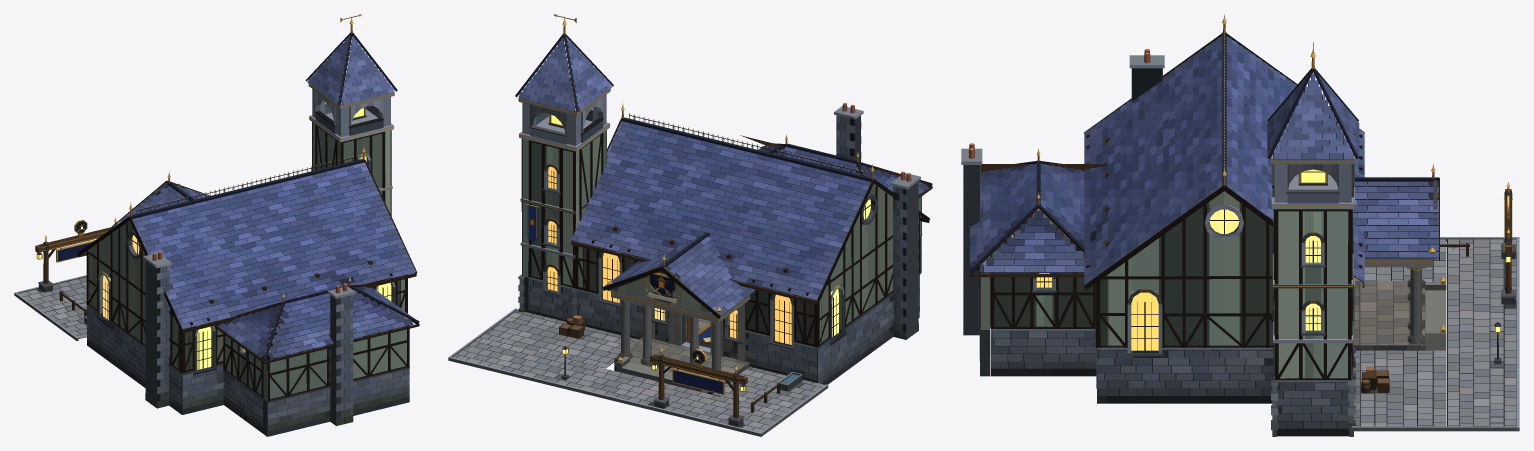
Rendered from guild_source.glb.
The picture shows the model from 3 angles, left to right: view 1: azimuth 30°, elevation 25°; view 2: azimuth 150°, elevation 25°; view 3: azimuth 270°, elevation 25°; orthographic projection. The views are drawn at different scales.
Visible parts, largest first — view 1: GuildRoof, GuildShell, GuildYard, GuildTrim; view 2: GuildShell, GuildRoof, GuildYard, GuildTrim; view 3: GuildShell, GuildRoof, GuildYard, GuildTrim, GuildGlow.
Boxes of the visible parts, x1=… form: GuildRoof: x1=77, y1=32, x2=419, y2=363; GuildShell: x1=86, y1=72, x2=409, y2=436; GuildYard: x1=14, y1=217, x2=116, y2=341; GuildTrim: x1=116, y1=14, x2=394, y2=224; GuildShell: x1=518, y1=76, x2=922, y2=396; GuildRoof: x1=515, y1=34, x2=932, y2=318; GuildYard: x1=448, y1=308, x2=828, y2=436; GuildTrim: x1=518, y1=14, x2=750, y2=362; GuildShell: x1=961, y1=49, x2=1446, y2=436; GuildRoof: x1=969, y1=14, x2=1439, y2=290; GuildYard: x1=1351, y1=182, x2=1519, y2=431; GuildTrim: x1=1271, y1=42, x2=1445, y2=332; GuildGlow: x1=1209, y1=169, x2=1510, y2=331.
Bounding box in the file's own units: 39.05 × 35.45 × 47.75.
